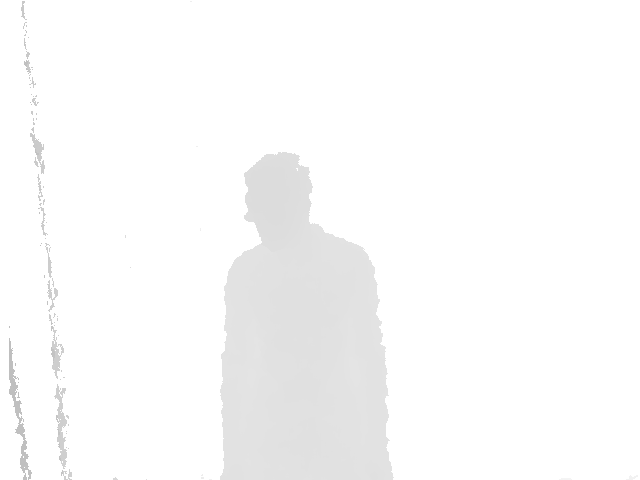head: (242, 153, 312, 253)
person: (217, 153, 396, 480)
